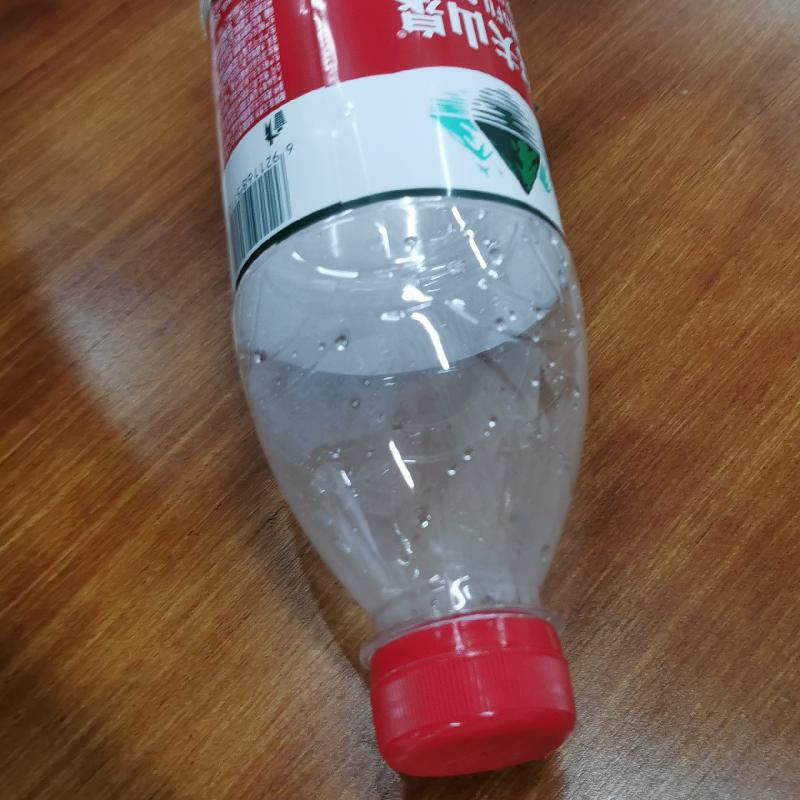bottles: (199, 0, 599, 785)
